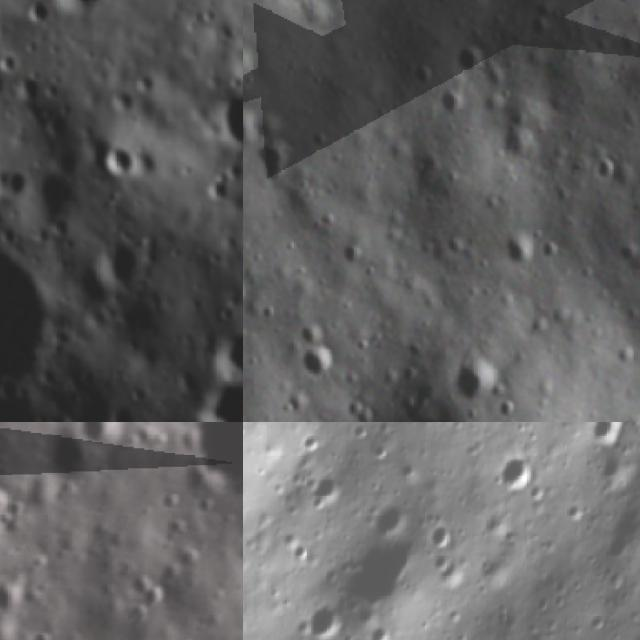crater: (0, 248, 73, 394), (38, 422, 102, 498), (185, 422, 243, 496), (197, 72, 243, 161), (89, 236, 142, 293), (445, 352, 502, 403), (187, 377, 243, 422), (208, 316, 243, 384), (72, 422, 138, 458), (95, 134, 141, 184), (123, 569, 170, 612), (254, 140, 294, 187), (10, 68, 48, 109), (454, 41, 491, 83), (297, 345, 338, 382), (45, 0, 108, 24), (202, 168, 239, 207), (0, 567, 28, 616), (0, 163, 34, 203), (433, 87, 468, 124), (505, 234, 539, 271), (593, 150, 625, 189), (15, 0, 57, 24), (340, 392, 372, 422), (0, 43, 24, 76), (410, 63, 435, 94), (243, 106, 259, 150), (231, 137, 243, 182), (610, 407, 640, 422), (29, 624, 55, 640), (243, 276, 254, 313)
